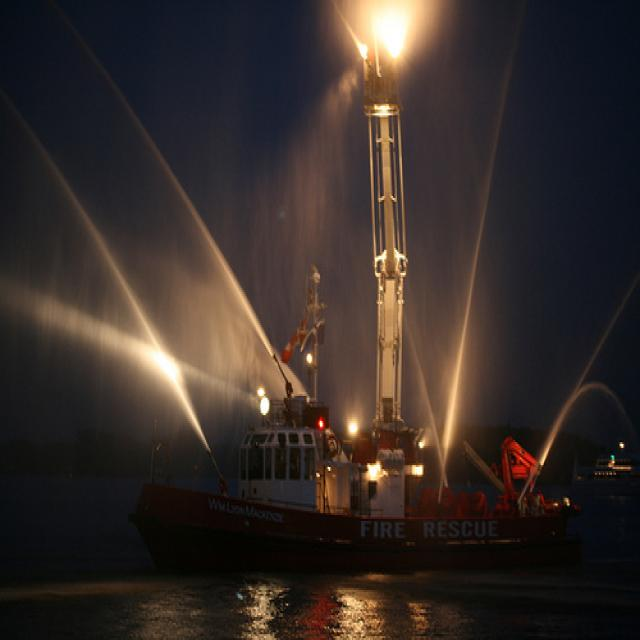Boat: (143, 110, 628, 595)
